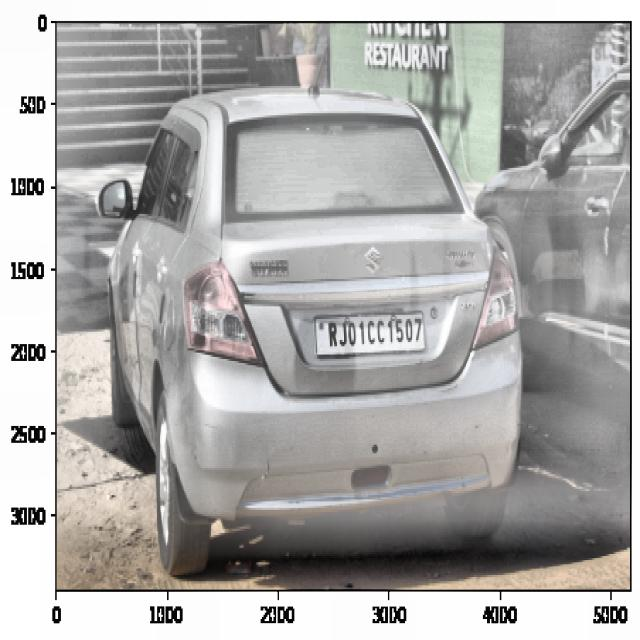license_plate: (322, 308, 424, 354)
